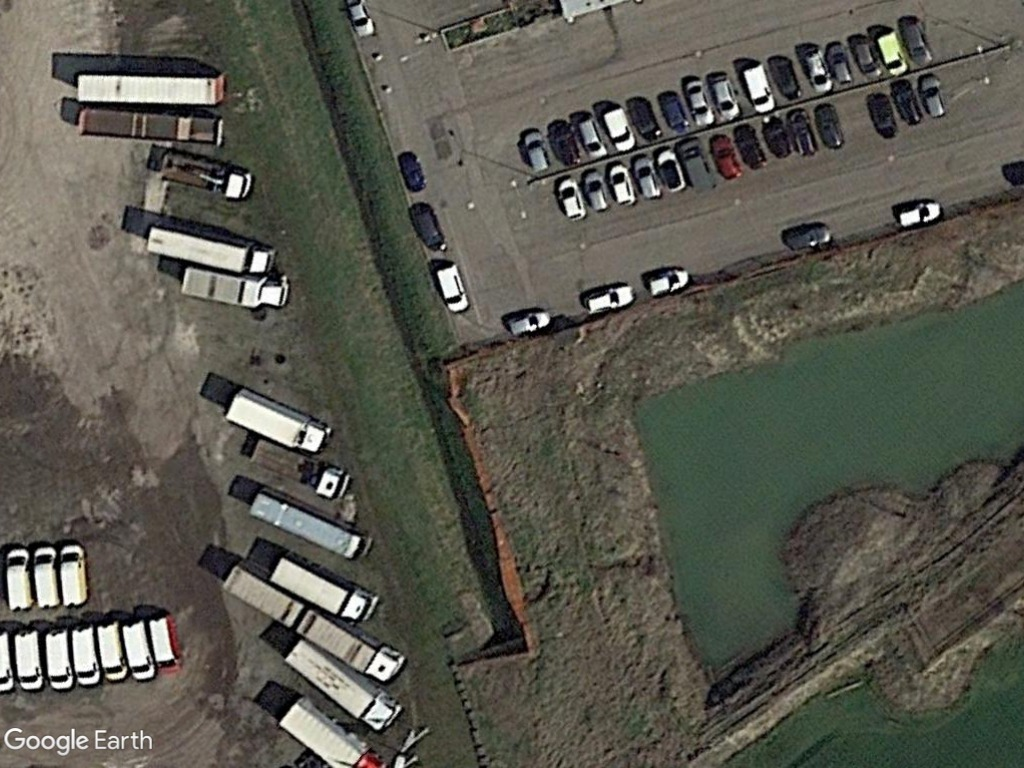bus: (239, 480, 377, 564)
car: (580, 277, 637, 321), (897, 14, 938, 72), (779, 219, 839, 256), (553, 173, 590, 229), (641, 261, 694, 300), (624, 92, 663, 144), (712, 69, 745, 128), (501, 304, 554, 340), (893, 196, 944, 233), (799, 43, 835, 95), (915, 72, 952, 122), (682, 75, 715, 130), (517, 126, 554, 174), (629, 154, 665, 203), (657, 88, 692, 137), (573, 112, 608, 161), (653, 146, 687, 196), (604, 162, 639, 210), (581, 166, 615, 214), (827, 36, 855, 87), (344, 0, 379, 40), (848, 33, 879, 78)
longvehicle: (215, 560, 409, 687), (141, 215, 280, 276), (68, 104, 231, 152), (72, 66, 229, 108), (179, 262, 291, 311)
other: (407, 202, 450, 255), (783, 104, 819, 160), (733, 116, 772, 167), (705, 133, 744, 184), (812, 101, 850, 153), (864, 91, 900, 141), (758, 115, 794, 162), (396, 150, 431, 195)
truck: (283, 635, 405, 732), (269, 551, 383, 626), (221, 384, 332, 456), (156, 152, 255, 203)
van: (11, 623, 48, 700), (119, 614, 159, 684), (56, 536, 93, 611), (147, 612, 187, 676), (68, 617, 102, 691), (94, 617, 129, 688), (43, 623, 76, 698), (429, 260, 473, 316), (1, 542, 36, 611), (677, 136, 721, 190), (29, 540, 62, 610), (600, 100, 640, 154), (739, 63, 779, 115), (874, 27, 910, 77)
